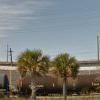Palm tree: (12, 39, 83, 97)
